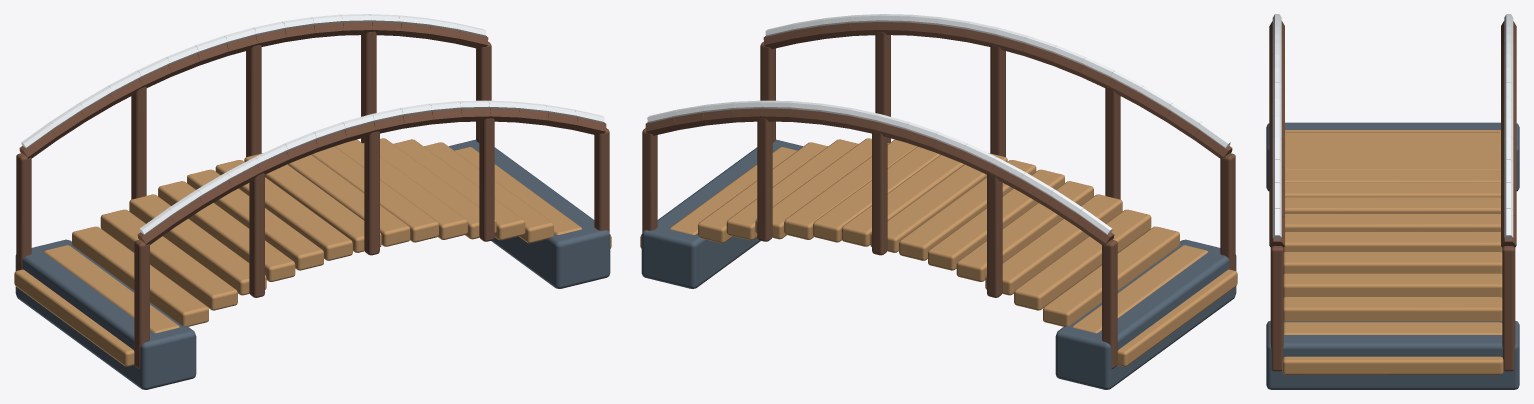
Rendered from alpine-snow-village-arched-timber-footbridge-d27f81cd__19802.glb.
3 views of the same model, side by side, from view 1: azimuth 30°, elevation 25°; view 2: azimuth 150°, elevation 25°; view 3: azimuth 270°, elevation 25° (orthographic). The views are drawn at different scales.
Visible parts, largest first — view 1: arched-timber-footbridge-oak, arched-timber-footbridge-wood, arched-timber-footbridge-iron, arched-timber-footbridge-snow; view 2: arched-timber-footbridge-oak, arched-timber-footbridge-wood, arched-timber-footbridge-iron, arched-timber-footbridge-snow; view 3: arched-timber-footbridge-oak, arched-timber-footbridge-iron, arched-timber-footbridge-wood, arched-timber-footbridge-snow.
Boxes of the visible parts, x1,y1,x2,y2 form: arched-timber-footbridge-oak: [14, 138, 611, 366]; arched-timber-footbridge-wood: [16, 22, 609, 368]; arched-timber-footbridge-iron: [15, 139, 610, 389]; arched-timber-footbridge-snow: [21, 14, 604, 234]; arched-timber-footbridge-oak: [640, 138, 1237, 366]; arched-timber-footbridge-wood: [642, 22, 1235, 368]; arched-timber-footbridge-iron: [641, 139, 1236, 389]; arched-timber-footbridge-snow: [647, 14, 1230, 234]; arched-timber-footbridge-oak: [1282, 130, 1503, 374]; arched-timber-footbridge-iron: [1266, 122, 1519, 389]; arched-timber-footbridge-wood: [1269, 21, 1516, 371]; arched-timber-footbridge-snow: [1272, 14, 1513, 238].
Bounding box in the file's own units: 4.24 × 1.8 × 1.95.
